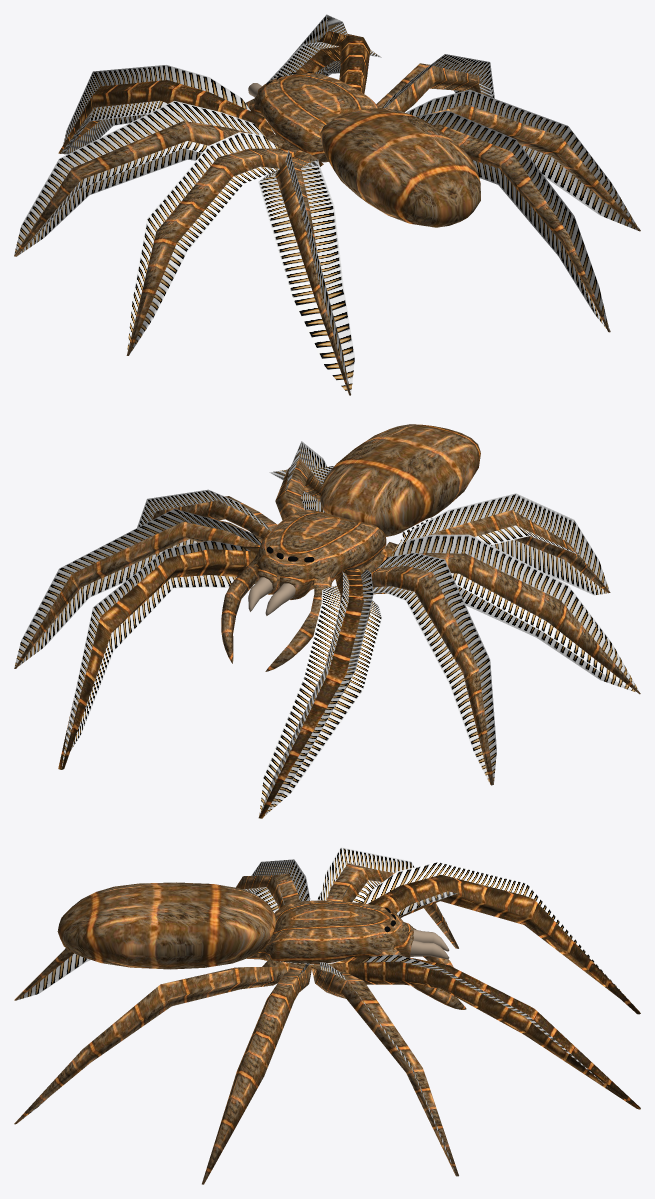
Rendered from spider.glb.
The picture shows the model from 3 angles, top to bottom: view 1: azimuth 30°, elevation 25°; view 2: azimuth 150°, elevation 25°; view 3: azimuth 270°, elevation 25°; orthographic projection. The views are drawn at different scales.
Parts seen in each view (by area): view 1: spider; view 2: spider; view 3: spider.
Part boxes in pixels (bbox=[...]): spider: bbox=[14, 14, 640, 395]; spider: bbox=[14, 424, 640, 818]; spider: bbox=[14, 847, 640, 1184].
Bounding box in the file's own units: 184 × 59.43 × 199.
6 materials, 4 textured.
